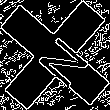N_NW: (23, 23, 87, 87)
